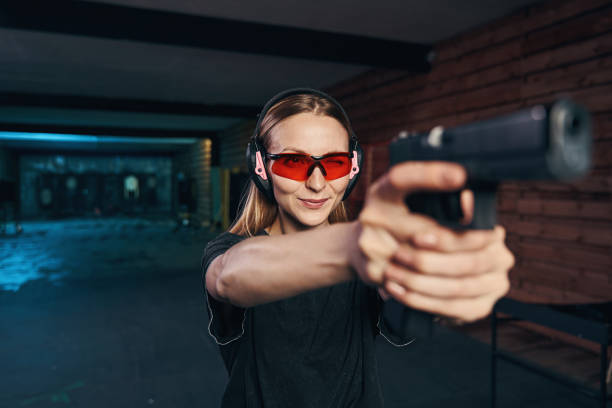gun: (373, 100, 597, 350)
